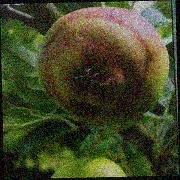rotten apple: (34, 5, 173, 126)
